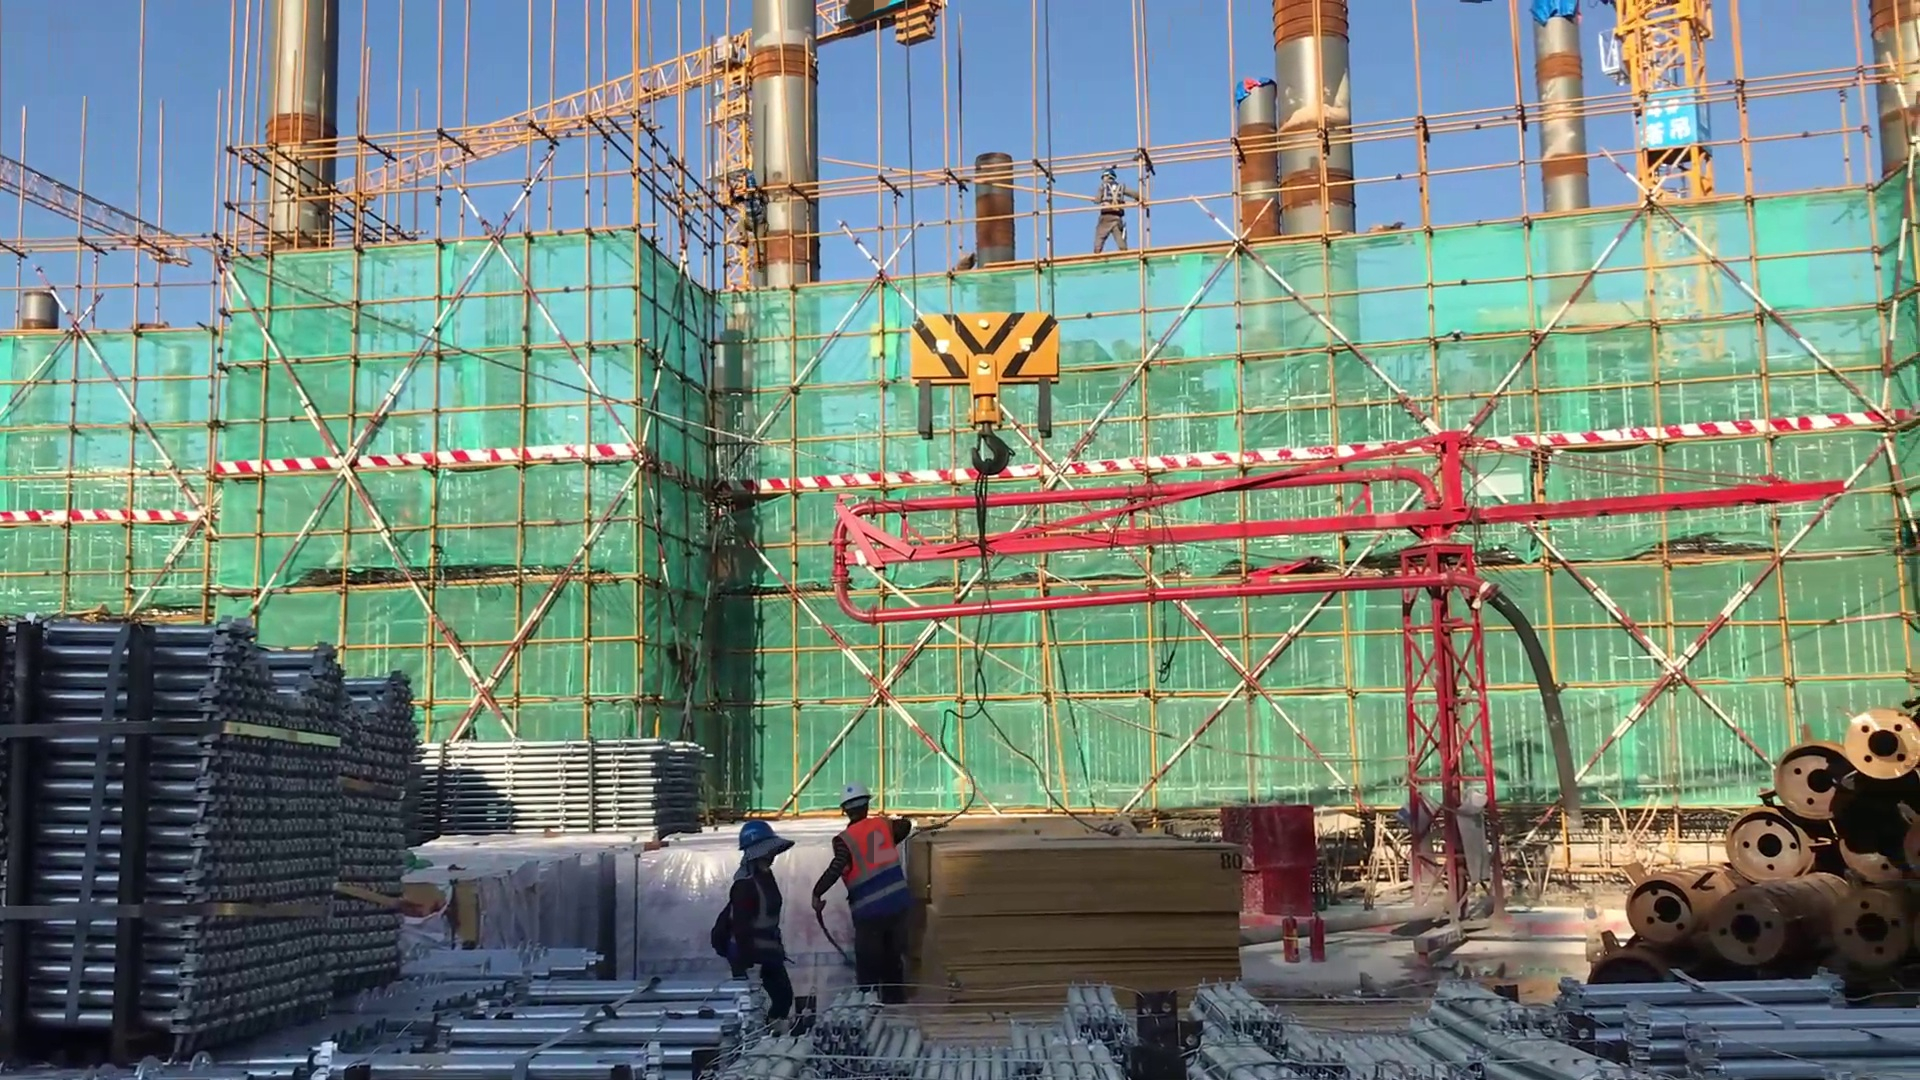board: (900, 831, 1250, 1012)
helmet: (723, 815, 798, 868), (830, 782, 881, 827), (1100, 161, 1123, 183)
hook: (909, 288, 1069, 498)
person: (812, 787, 930, 1016), (710, 817, 801, 1022), (1091, 164, 1154, 269)
scaffold: (1, 614, 431, 1059), (344, 938, 786, 1080), (1165, 970, 1586, 1080), (404, 709, 727, 845), (1563, 969, 1920, 1073), (788, 976, 1119, 1080)
slogan: (1636, 88, 1716, 170)
vest: (836, 812, 914, 923), (728, 865, 798, 986), (1103, 181, 1126, 219)
